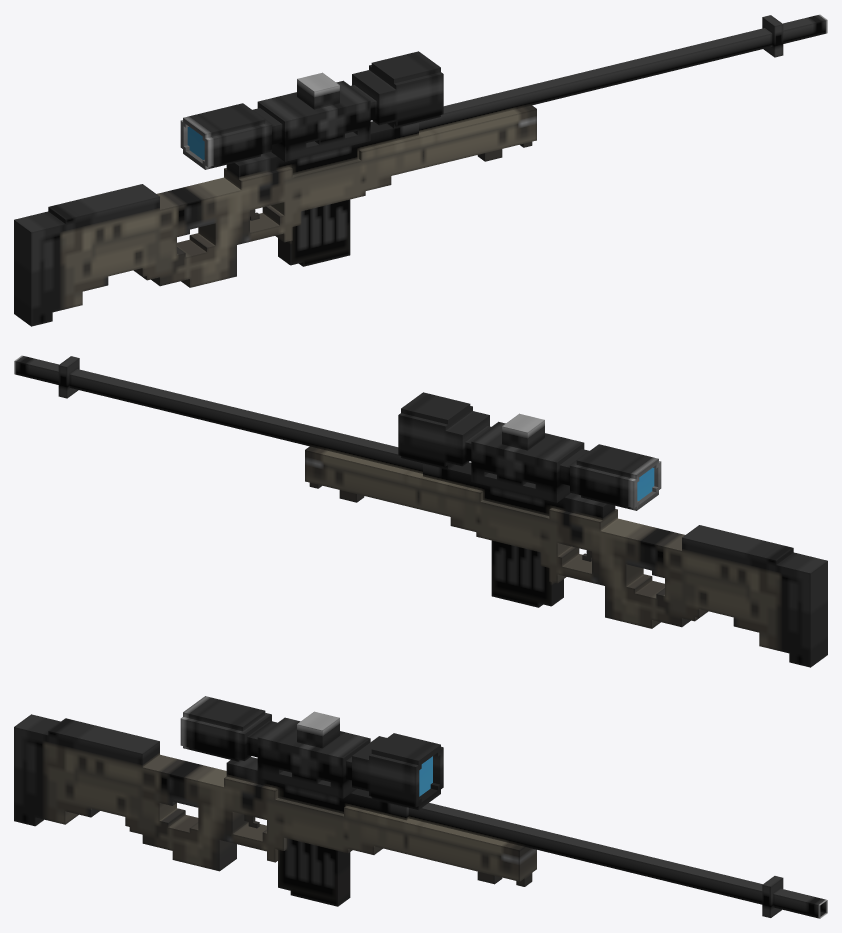
Rendered from sung_3.fbx.
The picture shows the model from 3 angles, top to bottom: view 1: azimuth 30°, elevation 25°; view 2: azimuth 150°, elevation 25°; view 3: azimuth 330°, elevation 25°; orthographic projection.
Parts seen in each view (by area): view 1: defaut gun.002; view 2: defaut gun.002; view 3: defaut gun.002.
Part boxes in pixels (left/top/right/bottom): defaut gun.002: left=14, top=14, right=827, bottom=326; defaut gun.002: left=14, top=355, right=827, bottom=667; defaut gun.002: left=14, top=696, right=827, bottom=918.
Size of the model in its own units: 1870 by 390 by 110.
